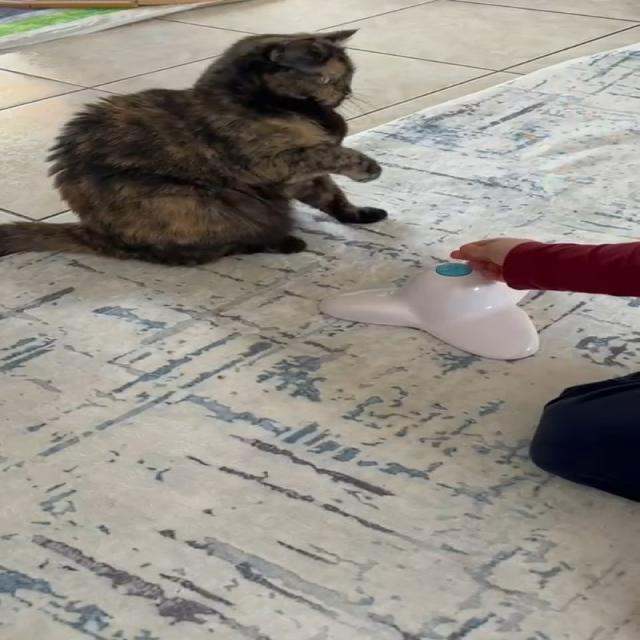authorized: (0, 27, 388, 267)
